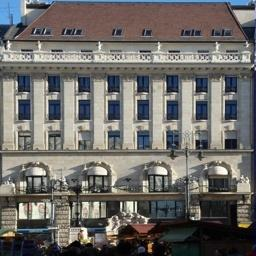building: (0, 3, 256, 228)
